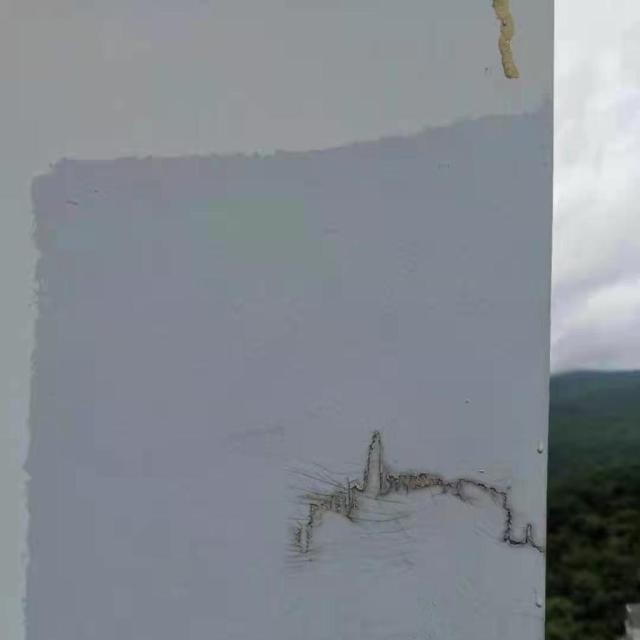crack: (283, 428, 545, 561)
surface_peeling: (488, 1, 524, 85)
